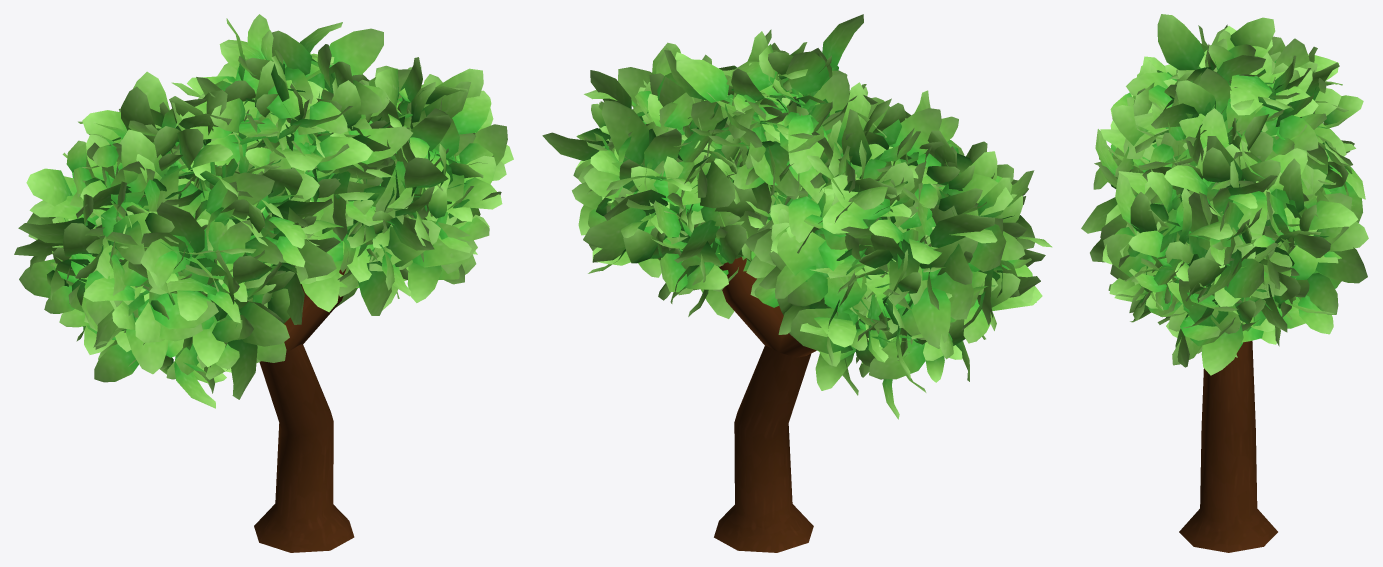
The model's file is Rc FN Tree 1.fbx.
The picture shows the model from 3 angles, left to right: view 1: azimuth 30°, elevation 25°; view 2: azimuth 150°, elevation 25°; view 3: azimuth 270°, elevation 25°; orthographic projection. The views are drawn at different scales.
Visible parts, largest first — view 1: Tree; view 2: Tree; view 3: Tree.
Part boxes in pixels (bbox=[...]): Tree: bbox=[14, 14, 513, 552]; Tree: bbox=[542, 14, 1052, 552]; Tree: bbox=[1081, 14, 1368, 552].
Bounding box in the file's own units: 559 × 585 × 313.
Materials: 1 (1 with a texture image).
